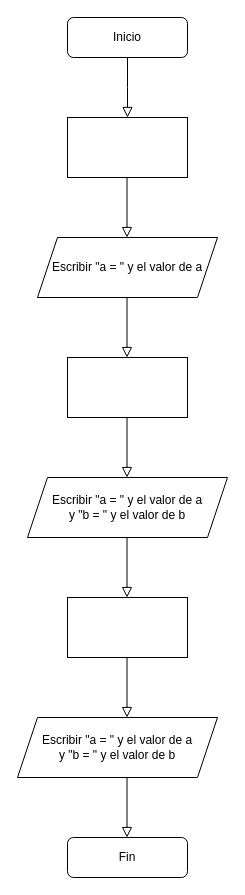
Image size: 245x895. Some labels were removed from this diagram. Each missing label, with the box of its shape:
Asignar a la constante a el valor 7: (66, 596, 188, 658)
Asignar a la constante b el valor de a + 5: (66, 356, 188, 418)
Asignar el valor 5 a la contante a: (66, 116, 188, 178)
